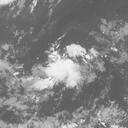cyclone: (44, 52, 82, 87)
